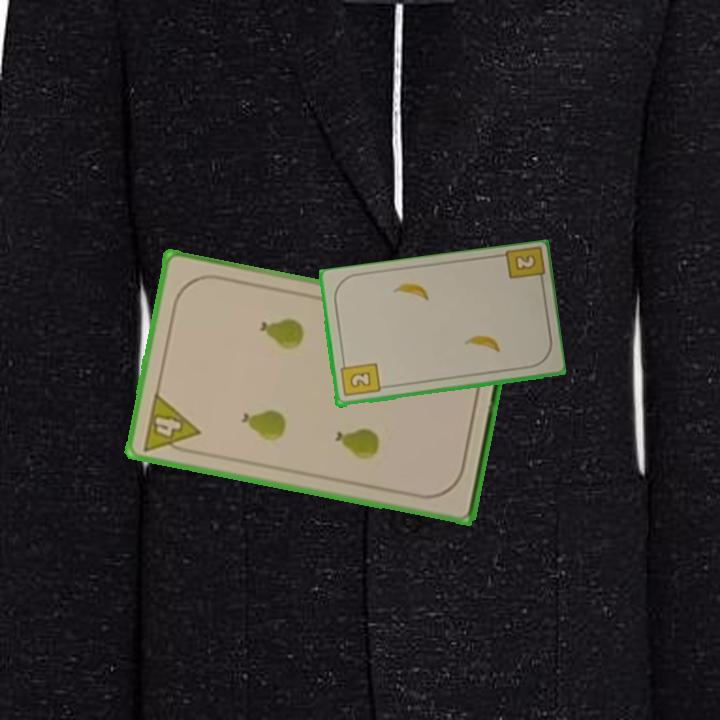2b: (500, 245, 546, 289), (337, 358, 382, 400)
4p: (138, 389, 203, 458)
